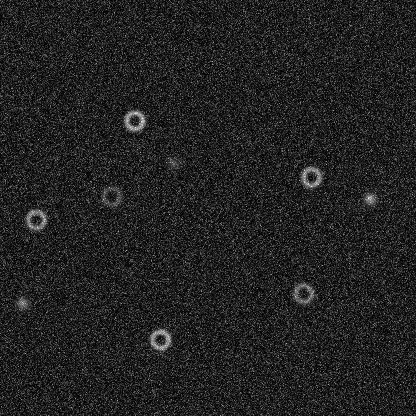Ring: (23, 207, 47, 231), (99, 184, 123, 208), (299, 164, 323, 188), (122, 108, 146, 132), (291, 281, 315, 305), (148, 327, 172, 351)
Spot: (361, 191, 377, 207), (14, 295, 30, 311), (165, 155, 181, 171)
